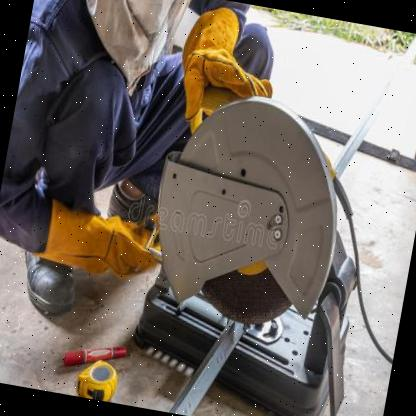bota: (13, 248, 86, 323)
